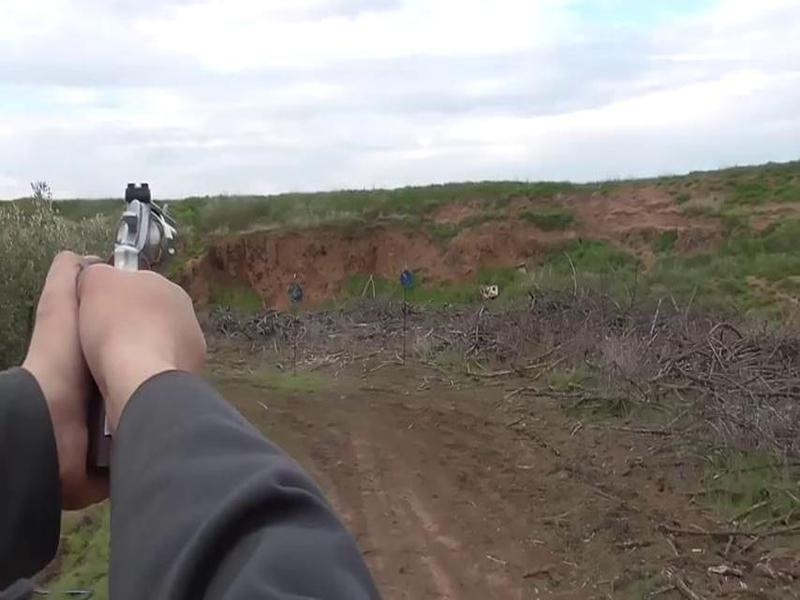Revolver: (107, 174, 186, 292)
